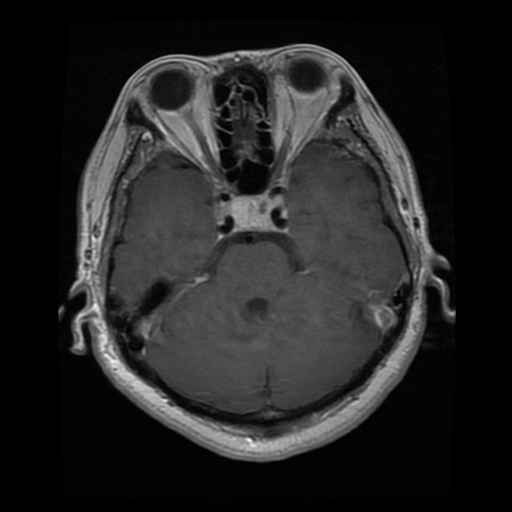pituitary: (228, 192, 275, 230)
